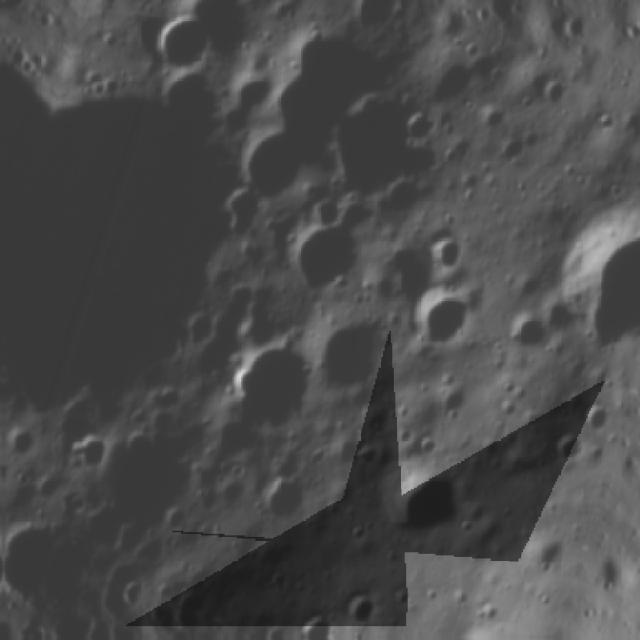crater: (0, 52, 274, 457), (529, 166, 640, 372), (209, 318, 329, 447), (288, 292, 402, 420), (265, 202, 378, 322), (222, 111, 336, 226), (364, 450, 474, 561), (392, 268, 496, 381), (122, 0, 225, 100), (408, 220, 478, 286), (495, 302, 553, 376), (328, 582, 392, 638), (338, 0, 394, 51), (284, 607, 338, 640), (442, 620, 528, 640)
